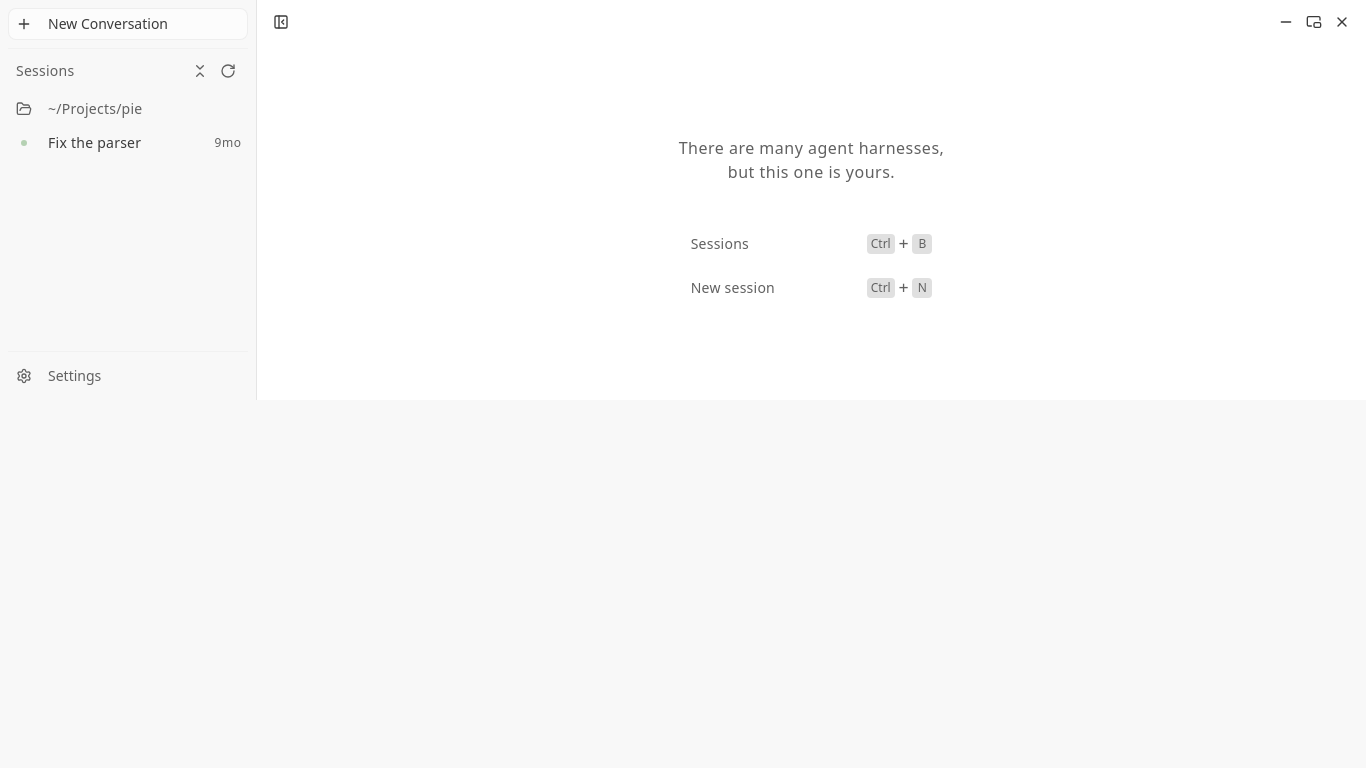
ChatScreen › shows the message Rust sent for a failure it has never seen
The width and height of the screenshot is (1366, 768).
Click the button "Fix the parser": {"x": 112, "y": 143} [16, 131, 208, 155]
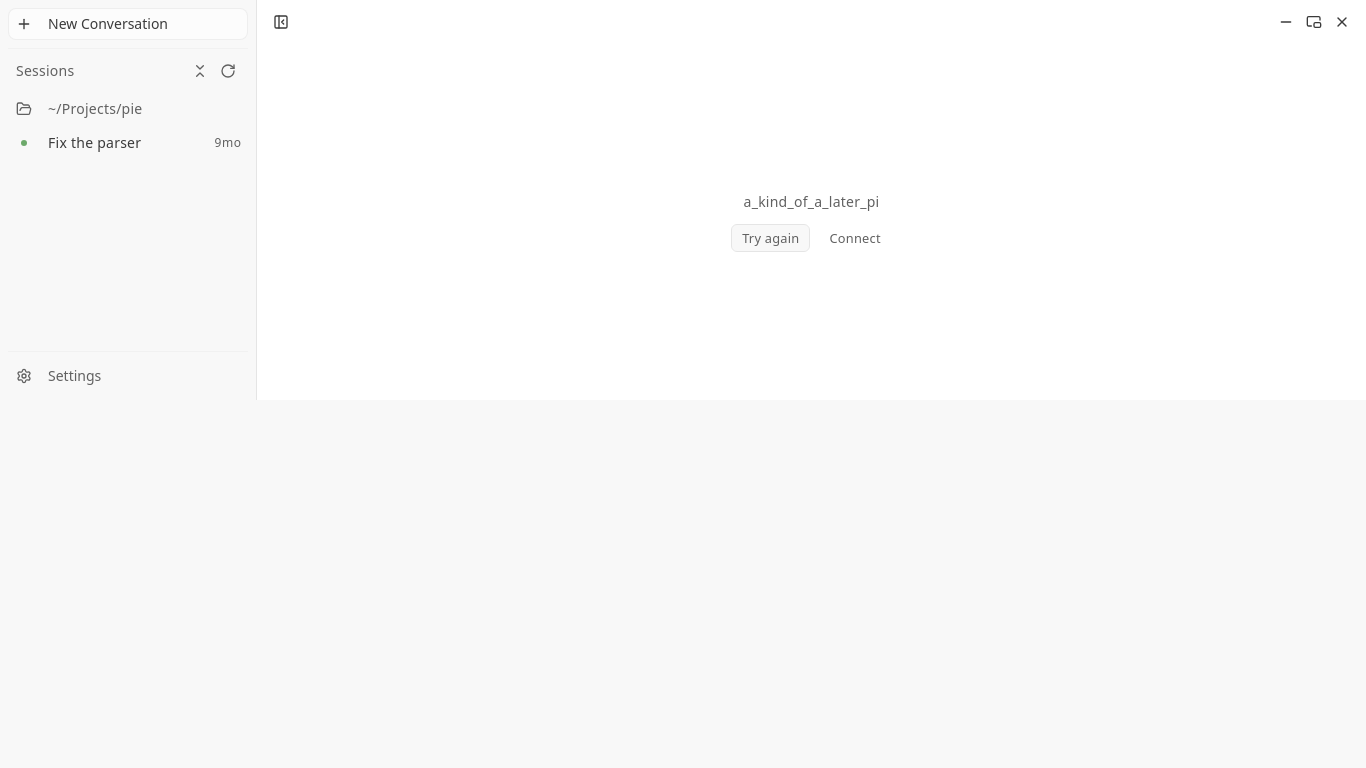
Expected: the message shows "a_kind_of_a_later_pi", [744, 192, 879, 211]
